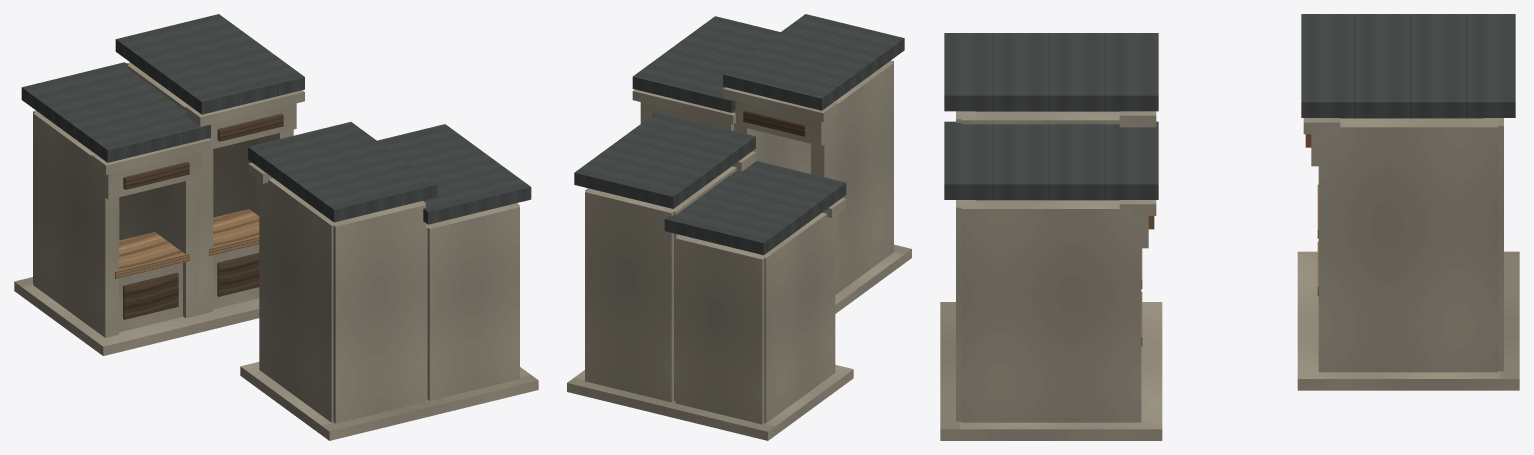
The model's file is beirut.glb.
The picture shows the model from 3 angles, left to right: view 1: azimuth 30°, elevation 25°; view 2: azimuth 150°, elevation 25°; view 3: azimuth 270°, elevation 25°; orthographic projection. The views are drawn at different scales.
Parts seen in each view (by area): view 1: beirut; view 2: beirut; view 3: beirut.
Boxes of the visible parts, left/top/right/bottom form: beirut: left=14, top=14, right=538, bottom=440; beirut: left=567, top=14, right=911, bottom=440; beirut: left=940, top=14, right=1519, bottom=440.
Bounding box in the file's own units: 3.34 × 2.5 × 4.61.
Materials: 1 (1 with a texture image).
